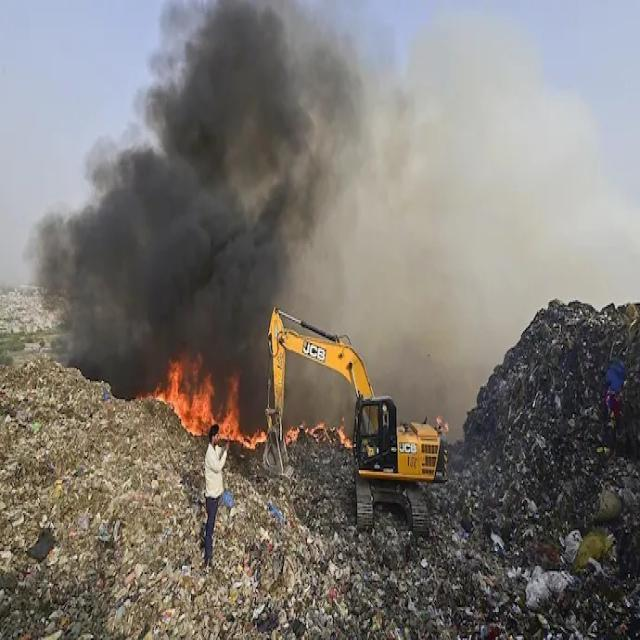Fire: (144, 359, 242, 431)
Smoke: (36, 8, 533, 404)
